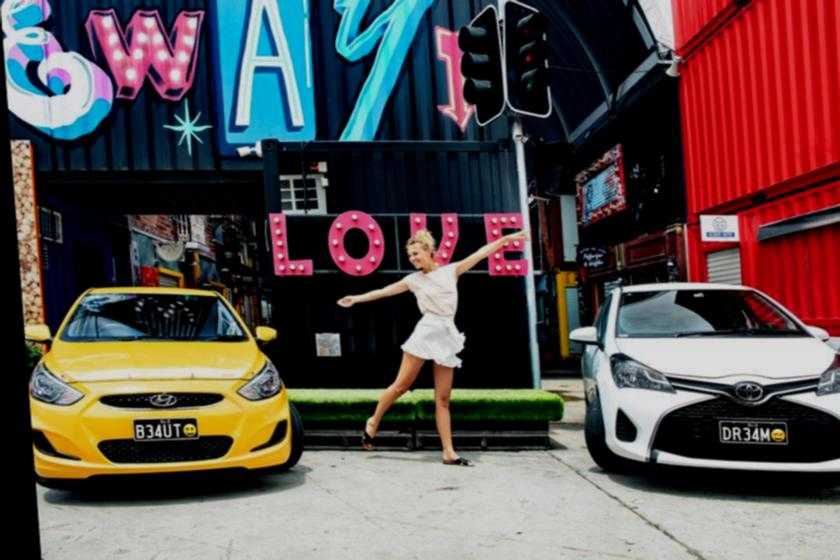License_Plate: (711, 407, 805, 459), (127, 412, 214, 449)
